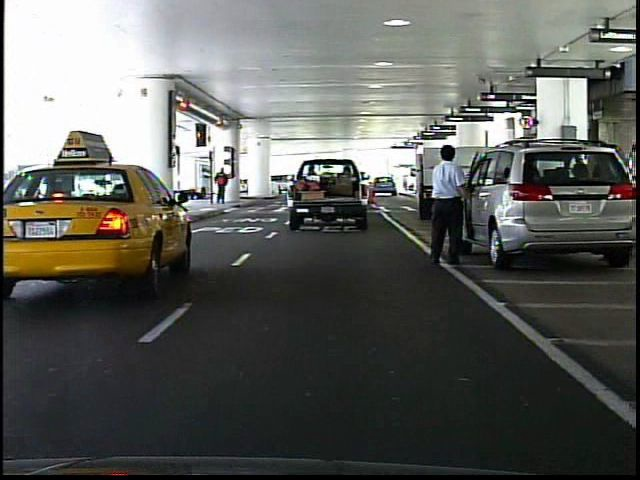person: (421, 139, 476, 274), (212, 164, 231, 207)
